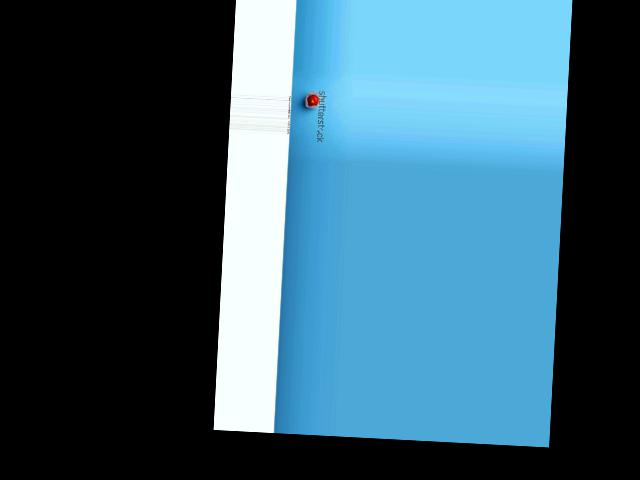tomato: (307, 95, 318, 106)
